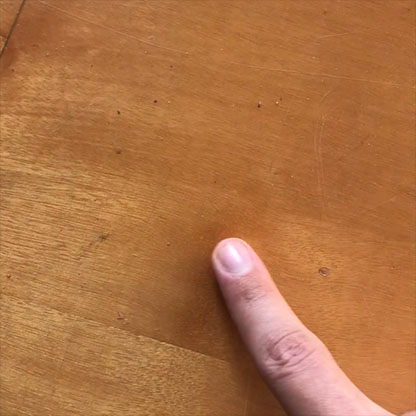fingertip: (204, 233, 269, 286)
